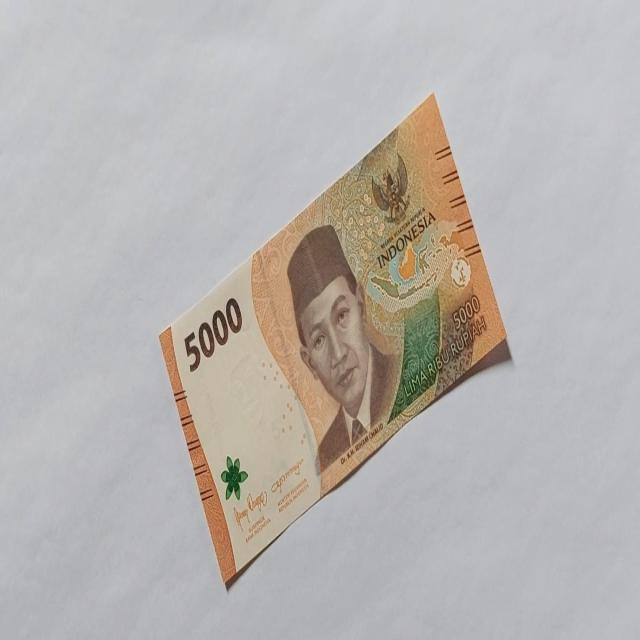lima ribu rupiah: (158, 95, 512, 594), (286, 222, 402, 475)
